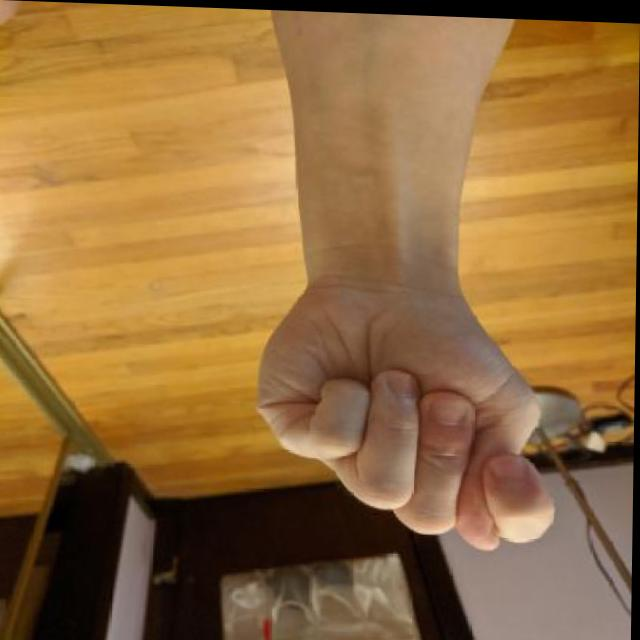T: (246, 265, 568, 554)
